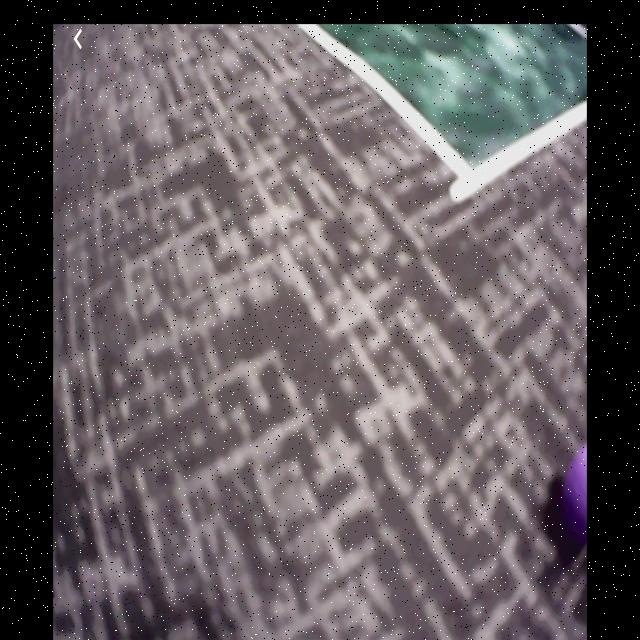ball: (563, 448, 588, 550)
